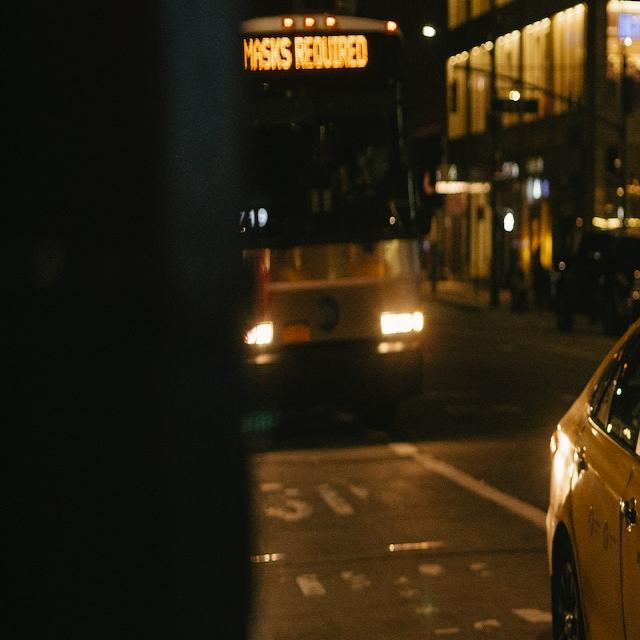bus: (227, 10, 432, 411)
car: (541, 264, 640, 640)
